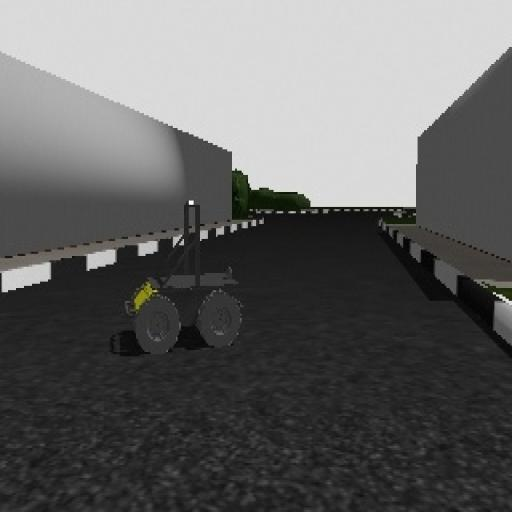huskya200: (105, 193, 250, 367)
